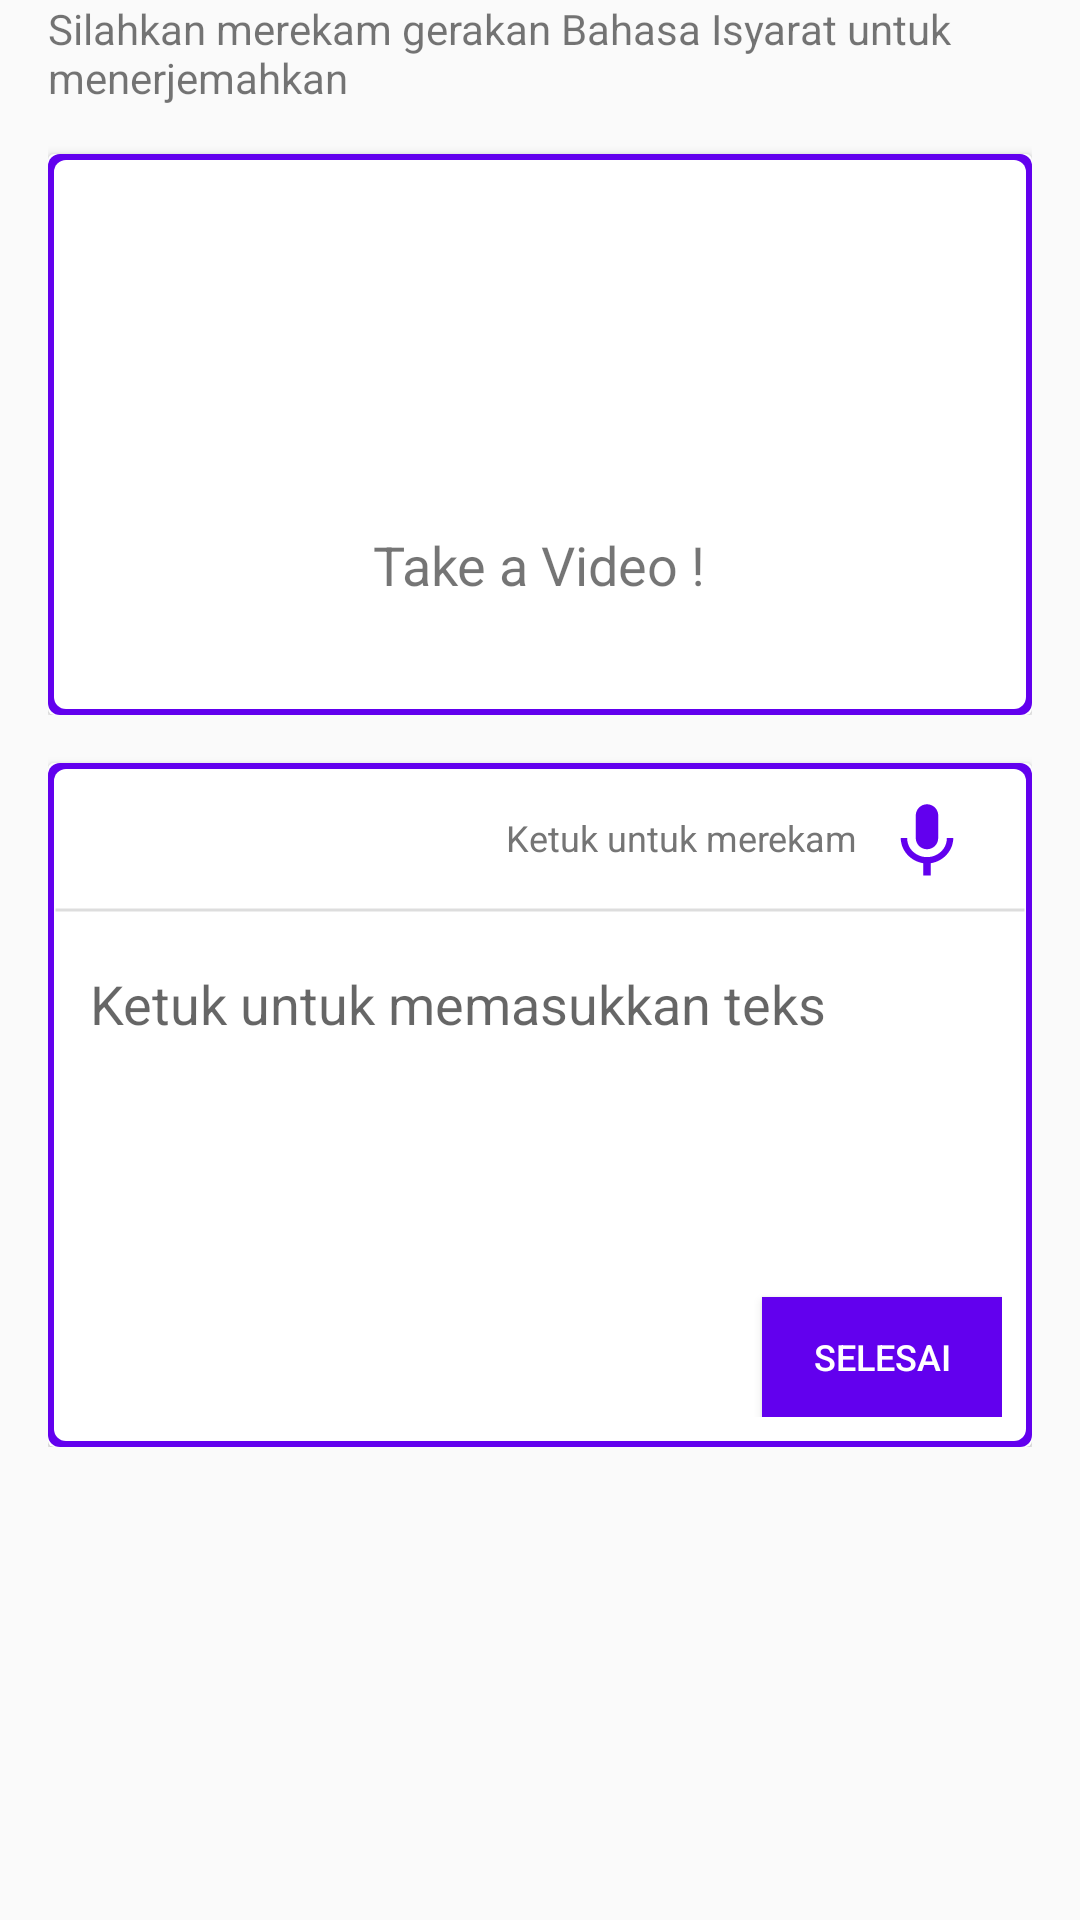

Screen size 1080 × 1920. Icon name, then its box in pixels as (x1,y1,x2,y2):
voice record: (900,804,954,876)
